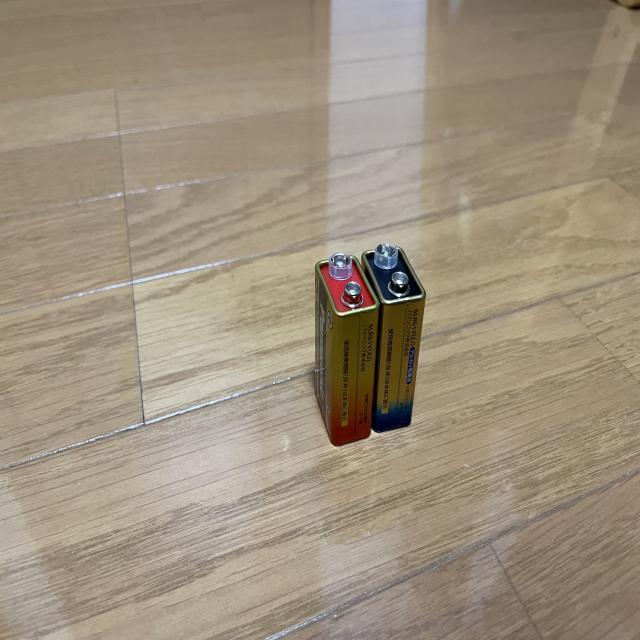9V: (314, 253, 381, 446), (361, 246, 428, 431)
